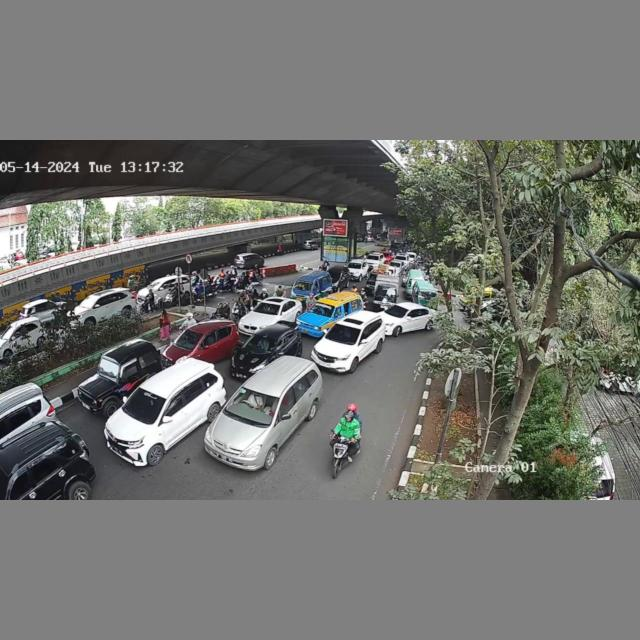windshield: (229, 386, 283, 425), (122, 389, 168, 422), (324, 324, 362, 345), (175, 329, 203, 349), (247, 335, 276, 353), (312, 300, 335, 317), (253, 302, 281, 314)
